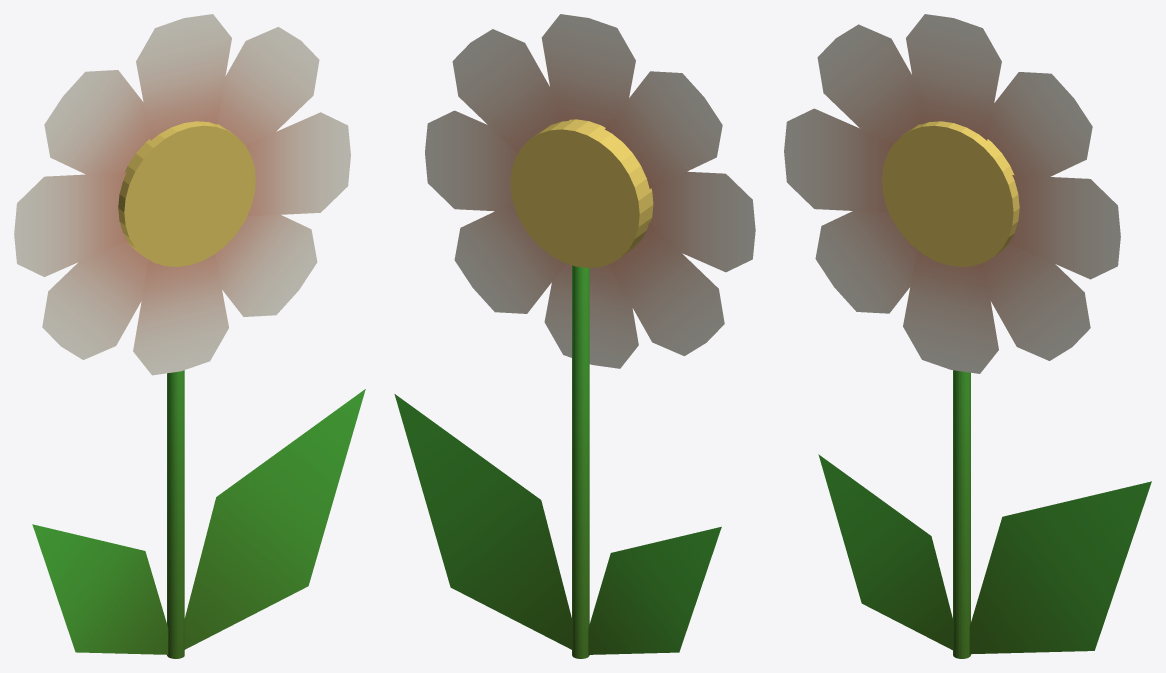
File: Flower.fbx
3 renders of one model, left to right at view 1: azimuth 30°, elevation 25°; view 2: azimuth 150°, elevation 25°; view 3: azimuth 330°, elevation 25°, orthographic.
Visible parts, largest first — view 1: Flower; view 2: Flower; view 3: Flower.
Part boxes in pixels (left/top/right/bottom): Flower: left=14, top=14, right=365, bottom=658; Flower: left=394, top=14, right=755, bottom=658; Flower: left=784, top=14, right=1151, bottom=658.
Size of the model in its own units: 78.14 by 7.57 by 133.
